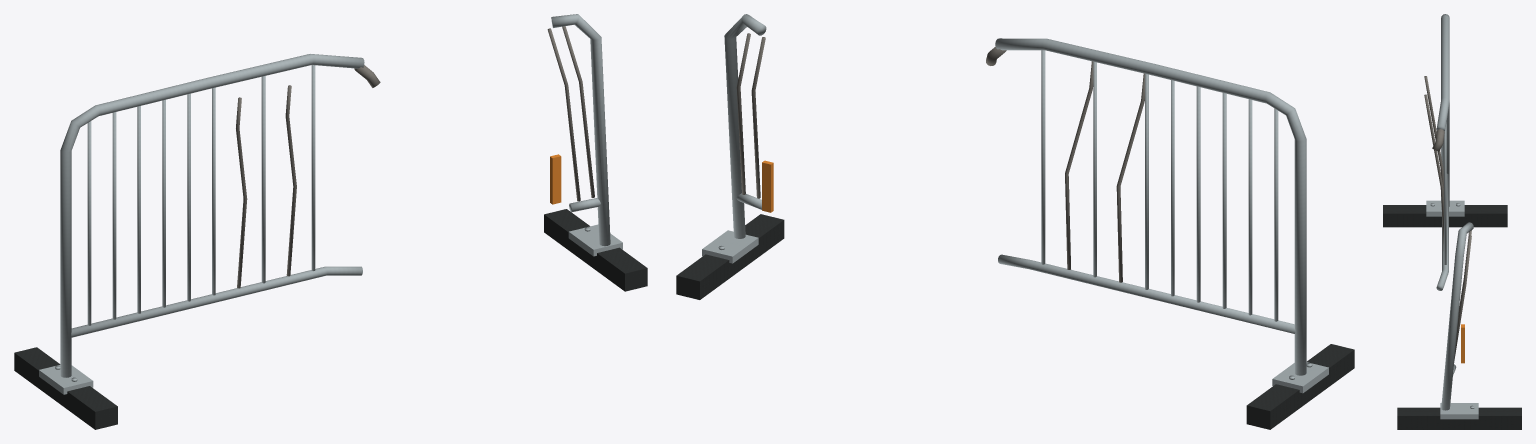
The picture shows the model from 3 angles, left to right: view 1: azimuth 30°, elevation 25°; view 2: azimuth 150°, elevation 25°; view 3: azimuth 270°, elevation 25°; orthographic projection. The views are drawn at different scales.
Parts seen in each view (by area): view 1: VIS_Breach_LeftFrame_WarpedTop, VIS_Breach_RightFrame_Collapsed, VIS_Breach_RightFoot_RubberFoot, VIS_Breach_LeftFoot_RubberFoot, VIS_Breach_LeftLowerRail_Broken, VIS_Breach_Left_Vertical_01, VIS_Breach_Left_Vertical_07, VIS_Breach_Left_Vertical_09, VIS_Breach_Left_Vertical_00, VIS_Breach_LeftFoot_ShoeClamp, VIS_Breach_RightFoot_ShoeClamp, VIS_Breach_Left_BentVertical_08 (+7 smaller); view 2: VIS_Breach_LeftFrame_WarpedTop, VIS_Breach_LeftFoot_RubberFoot, VIS_Breach_RightFoot_RubberFoot, VIS_Breach_LeftLowerRail_Broken, VIS_Breach_RightFrame_Collapsed, VIS_Breach_Left_Vertical_03, VIS_Breach_Left_Vertical_01, VIS_Breach_Left_Vertical_02, VIS_Breach_Left_Vertical_09, VIS_Breach_RightFoot_ShoeClamp, VIS_Breach_Left_Vertical_00, VIS_Breach_LeftFoot_ShoeClamp (+7 smaller); view 3: VIS_Breach_RightFoot_RubberFoot, VIS_Breach_LeftFoot_RubberFoot, VIS_Breach_RightFrame_Collapsed, VIS_Breach_LeftFrame_WarpedTop, VIS_Breach_RightFoot_ShoeClamp, VIS_Breach_LeftLowerRail_Broken, VIS_Breach_LeftFoot_ShoeClamp, VIS_Breach_Left_BentVertical_08, VIS_Breach_Left_Vertical_09, VIS_Breach_Right_BuckledPicket_106, VIS_Breach_Left_BentVertical_06, VIS_Breach_TornTopLeftEnd (+1 smaller).
Boxes of the visible parts, box(x1,y1,x2,y2) form: VIS_Breach_LeftFrame_WarpedTop: box(60, 54, 364, 377); VIS_Breach_RightFrame_Collapsed: box(551, 14, 610, 246); VIS_Breach_RightFoot_RubberFoot: box(544, 209, 647, 291); VIS_Breach_LeftFoot_RubberFoot: box(14, 347, 117, 429); VIS_Breach_LeftLowerRail_Broken: box(71, 266, 362, 337); VIS_Breach_Left_Vertical_01: box(112, 112, 116, 319); VIS_Breach_Left_Vertical_07: box(261, 76, 265, 283); VIS_Breach_Left_Vertical_09: box(311, 65, 315, 270); VIS_Breach_Left_Vertical_00: box(87, 121, 91, 325); VIS_Breach_LeftFoot_ShoeClamp: box(39, 365, 93, 394); VIS_Breach_RightFoot_ShoeClamp: box(568, 224, 622, 256); VIS_Breach_Left_BentVertical_08: box(285, 85, 296, 276); VIS_Breach_LeftFrame_WarpedTop: box(995, 38, 1306, 375); VIS_Breach_LeftFoot_RubberFoot: box(1246, 344, 1354, 429); VIS_Breach_RightFoot_RubberFoot: box(676, 214, 784, 299); VIS_Breach_LeftLowerRail_Broken: box(998, 254, 1295, 333); VIS_Breach_RightFrame_Collapsed: box(724, 14, 766, 238); VIS_Breach_Left_Vertical_03: box(1196, 86, 1200, 302); VIS_Breach_Left_Vertical_01: box(1248, 99, 1252, 315); VIS_Breach_Left_Vertical_02: box(1222, 93, 1226, 308); VIS_Breach_Left_Vertical_09: box(1041, 50, 1045, 264); VIS_Breach_RightFoot_ShoeClamp: box(702, 230, 758, 263); VIS_Breach_Left_Vertical_00: box(1274, 108, 1278, 321); VIS_Breach_LeftFoot_ShoeClamp: box(1272, 362, 1328, 393); VIS_Breach_RightFoot_RubberFoot: box(1397, 407, 1521, 429); VIS_Breach_LeftFoot_RubberFoot: box(1383, 205, 1507, 227); VIS_Breach_RightFrame_Collapsed: box(1441, 222, 1473, 410); VIS_Breach_LeftFrame_WarpedTop: box(1436, 14, 1449, 206); VIS_Breach_RightFoot_ShoeClamp: box(1440, 403, 1478, 419); VIS_Breach_LeftLowerRail_Broken: box(1436, 173, 1448, 290); VIS_Breach_LeftFoot_ShoeClamp: box(1426, 200, 1464, 216); VIS_Breach_Left_BentVertical_08: box(1424, 94, 1443, 250); VIS_Breach_Left_Vertical_09: box(1444, 122, 1446, 264); VIS_Breach_Right_BuckledPicket_106: box(1454, 235, 1471, 360); VIS_Breach_Left_BentVertical_06: box(1424, 76, 1443, 194); VIS_Breach_TornTopLeftEnd: box(1432, 129, 1444, 151).
Size of the model in its own units: 2.31 by 1.1 by 0.635.
4 materials, 4 textured.
